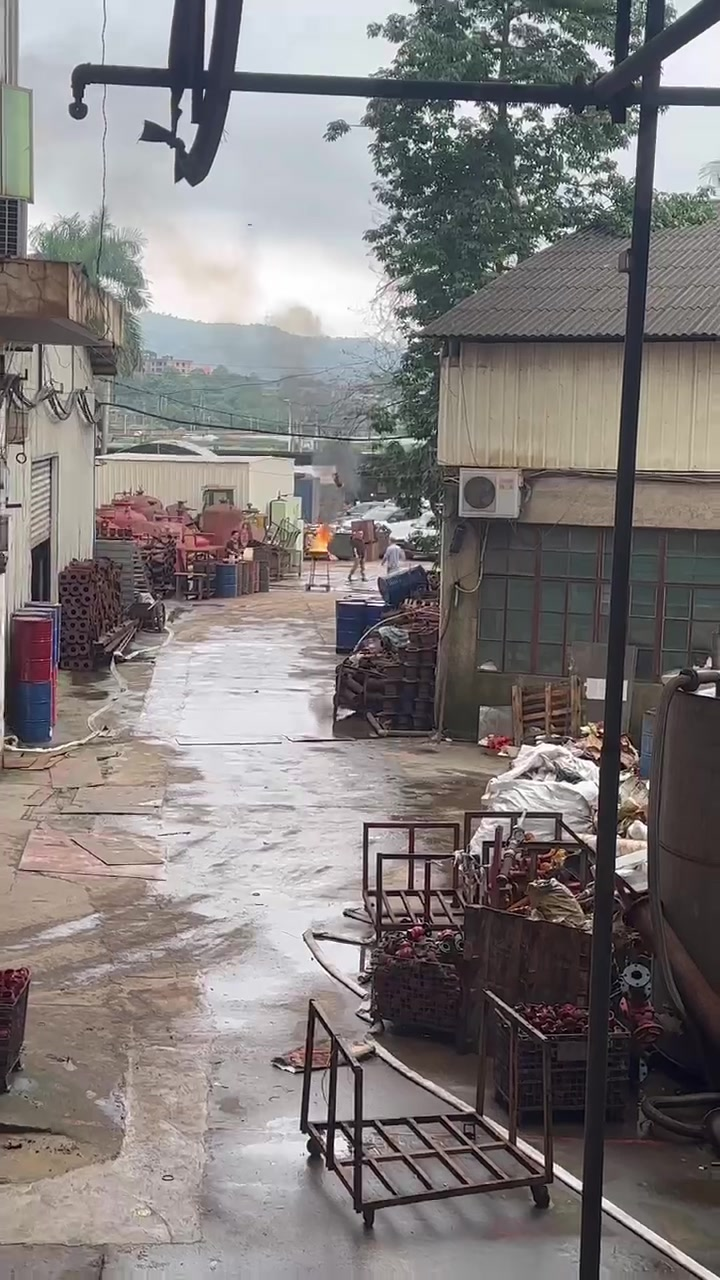fire: (307, 523, 329, 550)
